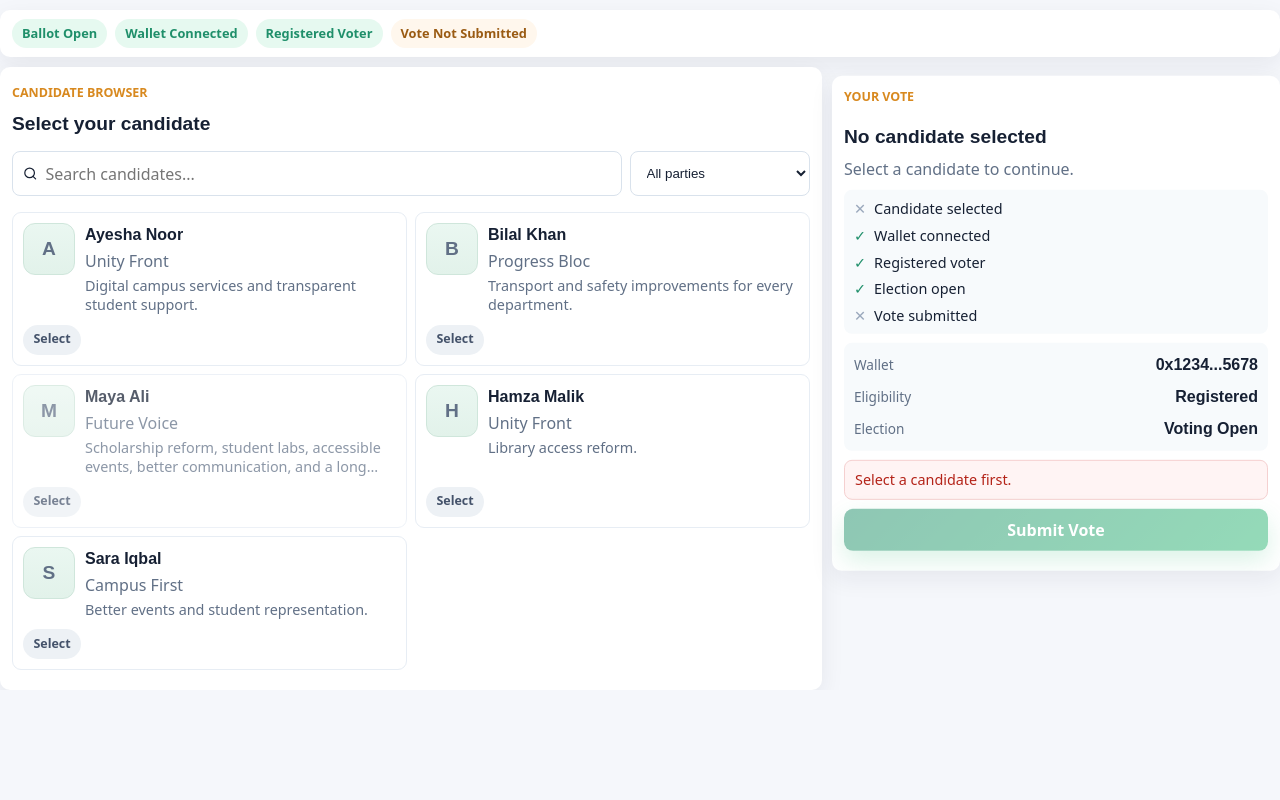
Test: VoteView › filters candidates by search text and party when many candidates exist
The image size is (1280, 800).
Type "Sara" into the field with placeholder "Search candidates..." at (328, 174), box [45, 152, 611, 195]
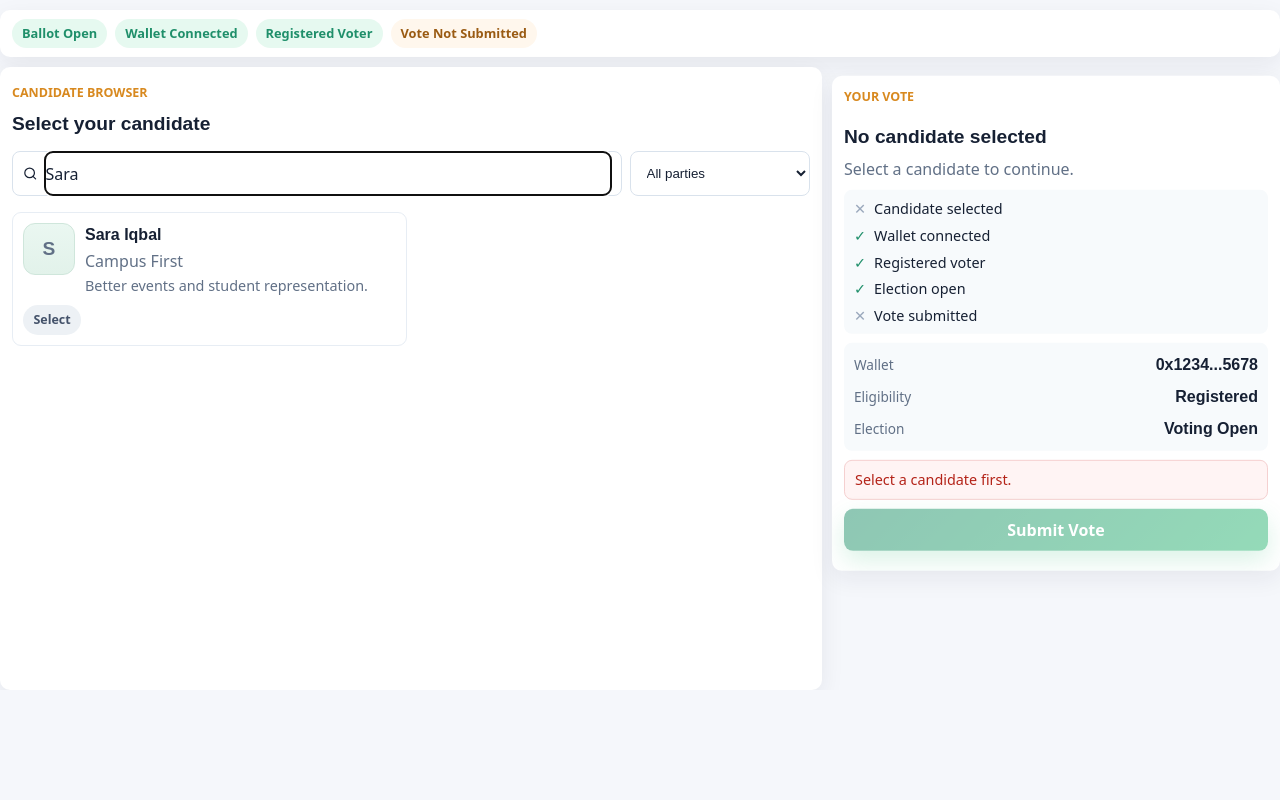
Expected: the text "Sara Iqbal" is shown, [85, 226, 162, 243]
Result: the button "Bilal Khan" is gone
Clear the field with placeholder "Search candidates..." at (328, 174), box [45, 152, 611, 195]
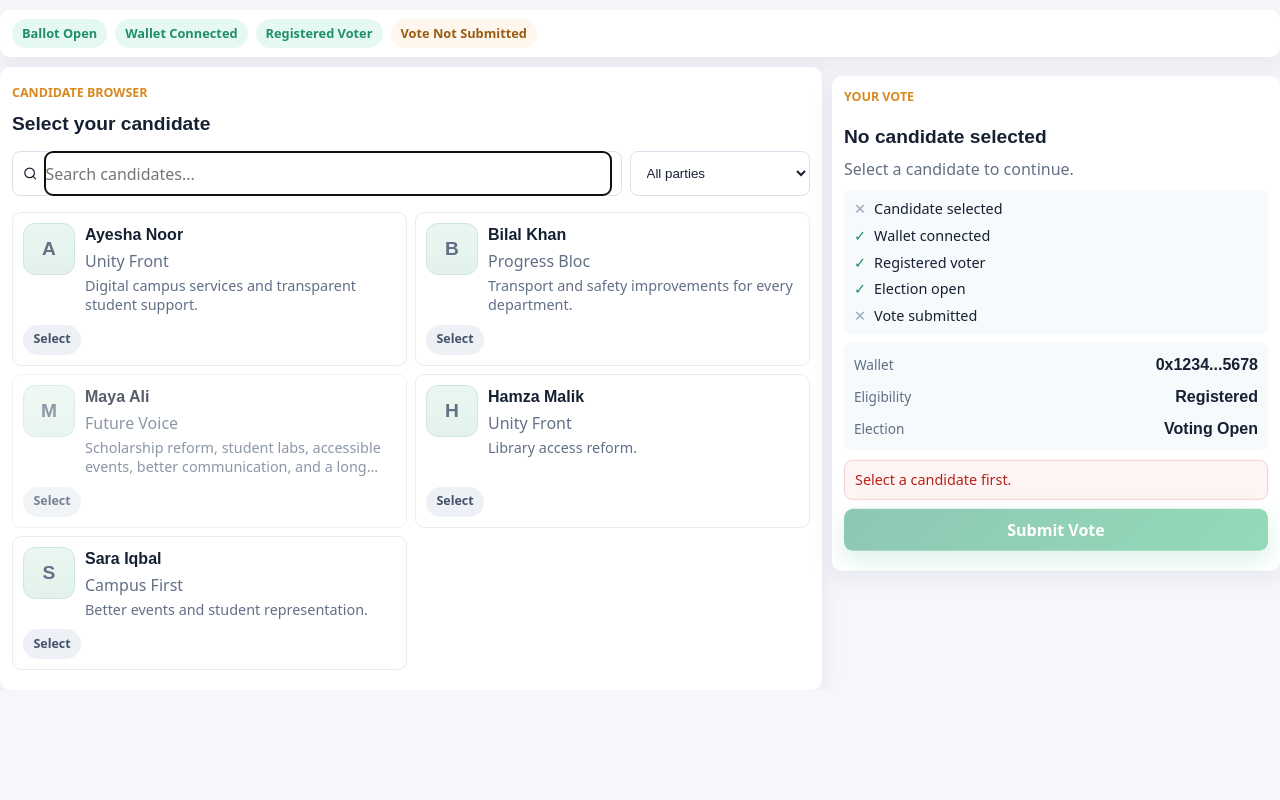
Select "Unity Front" in the dropdown at (720, 174), box [630, 151, 810, 196]
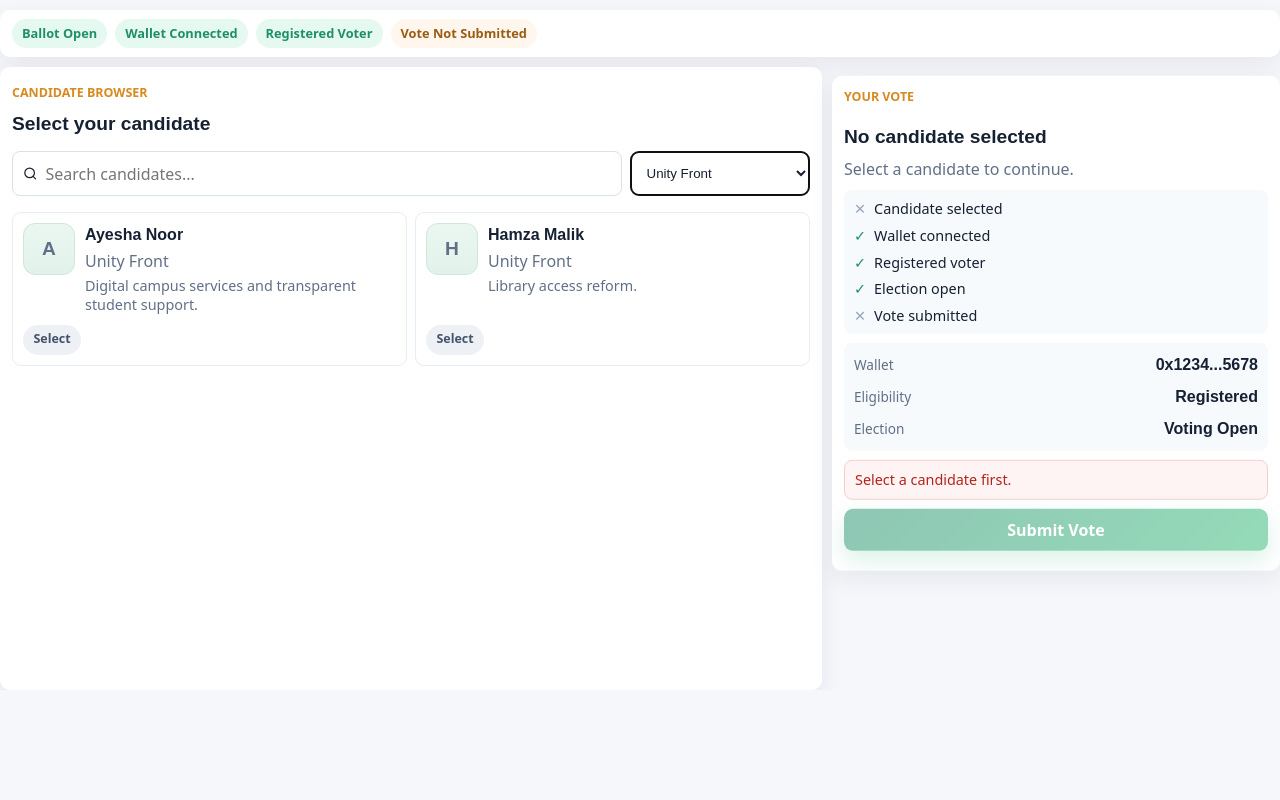
Result: the text "Ayesha Noor" is shown at [85, 226, 183, 243]
Result: the text "Hamza Malik" is shown at [488, 226, 584, 243]
Result: the button "Sara Iqbal" is gone
